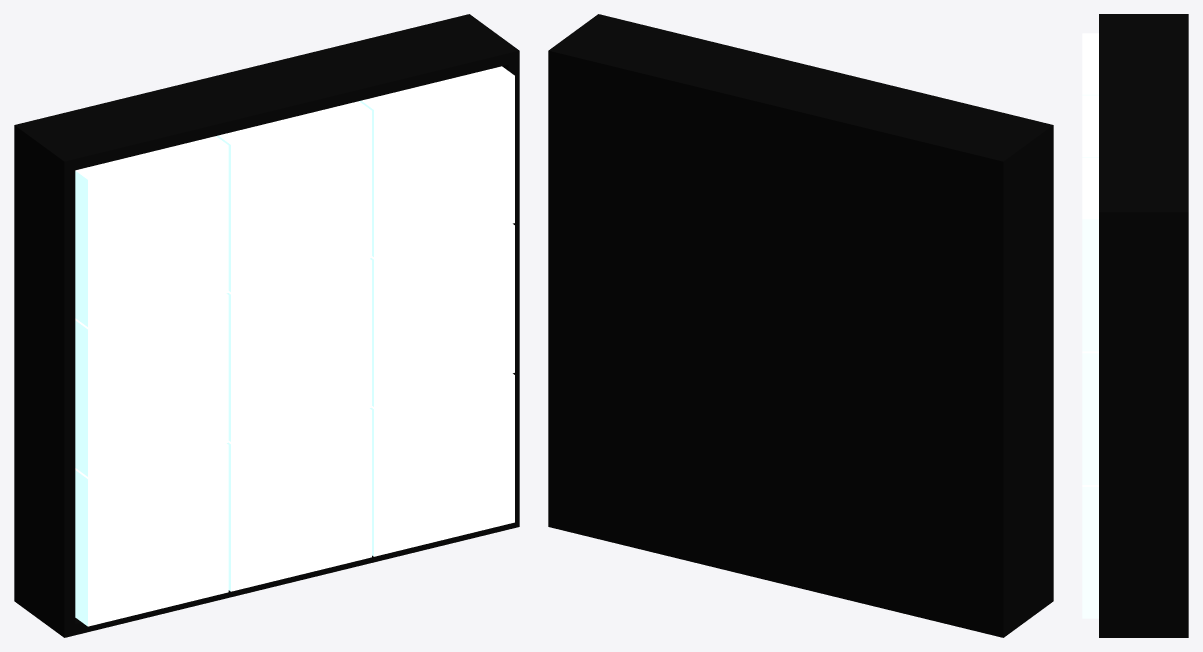
Rendered from pyantashki.fbx.
3 renders of one model, left to right at view 1: azimuth 30°, elevation 25°; view 2: azimuth 150°, elevation 25°; view 3: azimuth 270°, elevation 25°, orthographic. The views are drawn at different scales.
Parts seen in each view (by area): view 1: Cube, Cube_1, Cube_9, Cube_4, Cube_2, Cube_3, Cube_5, Cube_8, Cube_7, Cube_6; view 2: Cube; view 3: Cube, Cube_3, Cube_7, Cube_6, Cube_2, Cube_1.
Boxes of the visible parts, x1,y1,x2,y2 form: Cube: (14, 14, 519, 637); Cube_1: (75, 136, 228, 326); Cube_9: (75, 443, 228, 626); Cube_4: (75, 293, 228, 476); Cube_2: (216, 101, 371, 292); Cube_3: (359, 66, 514, 257); Cube_5: (226, 258, 371, 441); Cube_8: (227, 408, 371, 591); Cube_7: (370, 373, 514, 556); Cube_6: (370, 223, 514, 406); Cube: (548, 14, 1053, 637); Cube: (1099, 14, 1188, 637); Cube_3: (1082, 158, 1098, 351); Cube_7: (1082, 485, 1098, 618); Cube_6: (1082, 351, 1098, 484); Cube_2: (1082, 95, 1098, 157); Cube_1: (1082, 33, 1098, 95).
Size of the model in its own units: 210 by 210 by 47.5.
